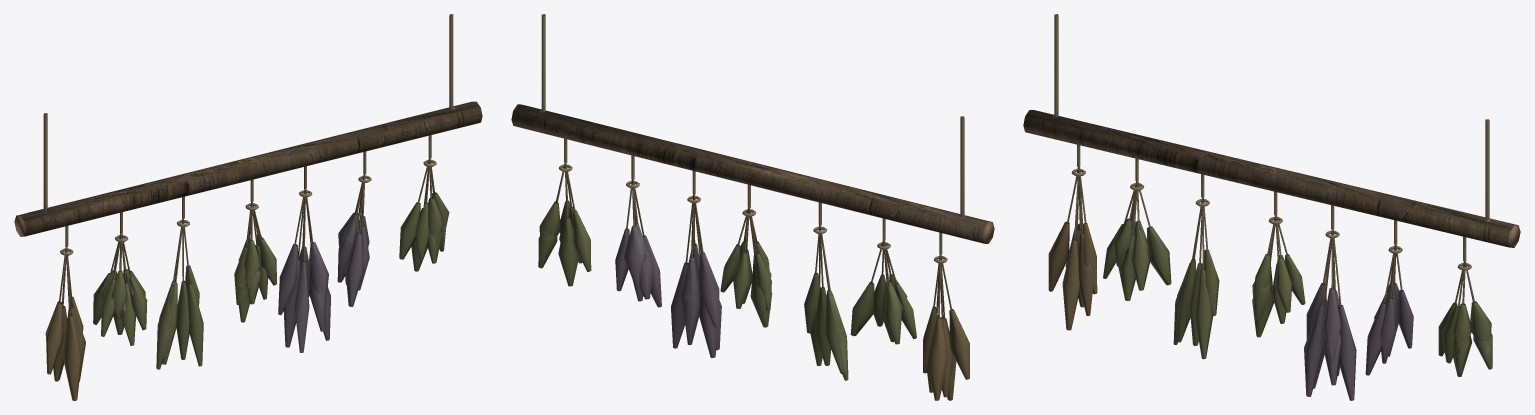
Rendered from herbs_rack.glb.
3 views of the same model, side by side, from view 1: azimuth 30°, elevation 25°; view 2: azimuth 150°, elevation 25°; view 3: azimuth 330°, elevation 25° (orthographic). The views are drawn at different scales.
Parts seen in each view (by area): view 1: herbs_rack; view 2: herbs_rack; view 3: herbs_rack.
Boxes of the visible parts, bbox=[...] form: herbs_rack: bbox=[14, 14, 482, 400]; herbs_rack: bbox=[511, 14, 994, 400]; herbs_rack: bbox=[1023, 14, 1520, 400].
Size of the model in its own units: 0.9002 by 0.5525 by 0.0794.
Materials: 1 (1 with a texture image).
